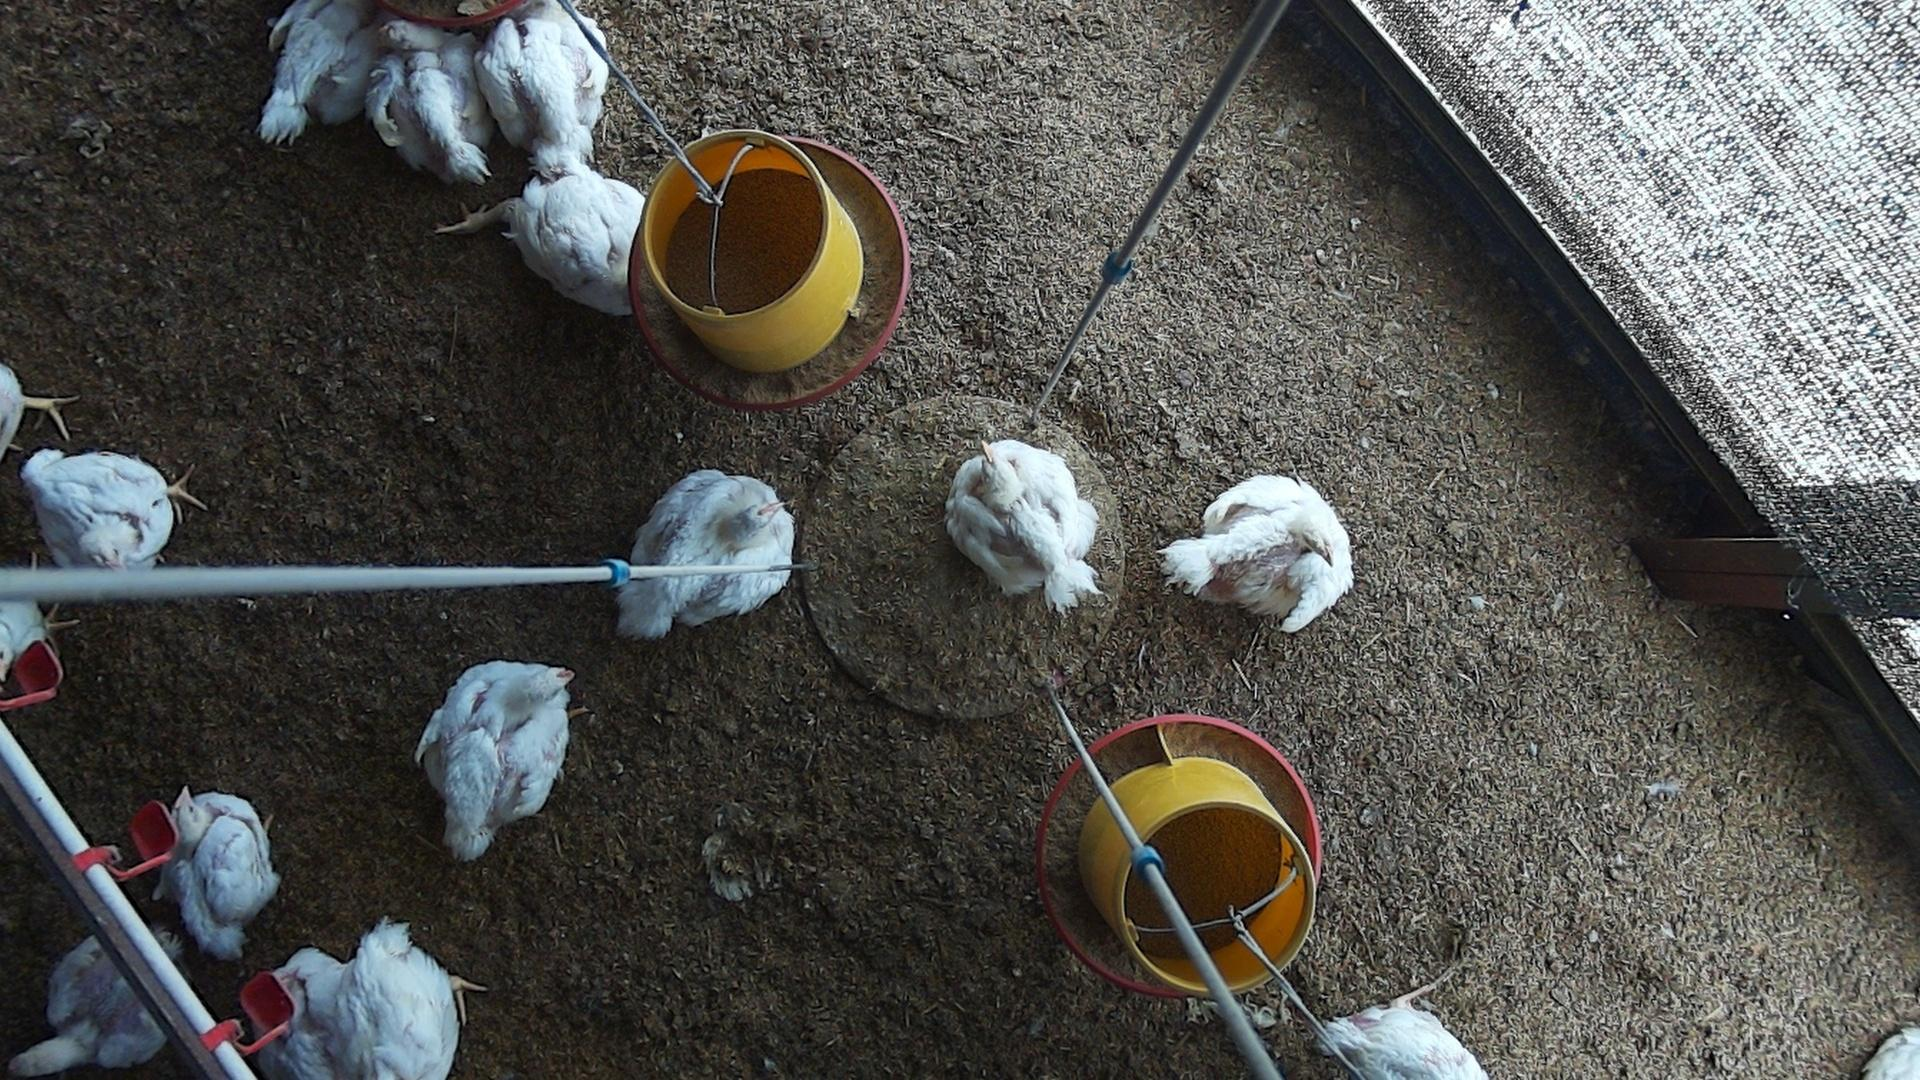ayam_broiler: (417, 659, 570, 857), (1162, 473, 1353, 630), (624, 468, 795, 636), (460, 164, 649, 314), (947, 440, 1097, 607), (20, 450, 212, 566), (327, 919, 464, 1080), (483, 0, 608, 174), (368, 21, 492, 183), (165, 787, 280, 959), (1319, 984, 1485, 1080), (260, 1, 373, 140), (1865, 1022, 1920, 1080)
